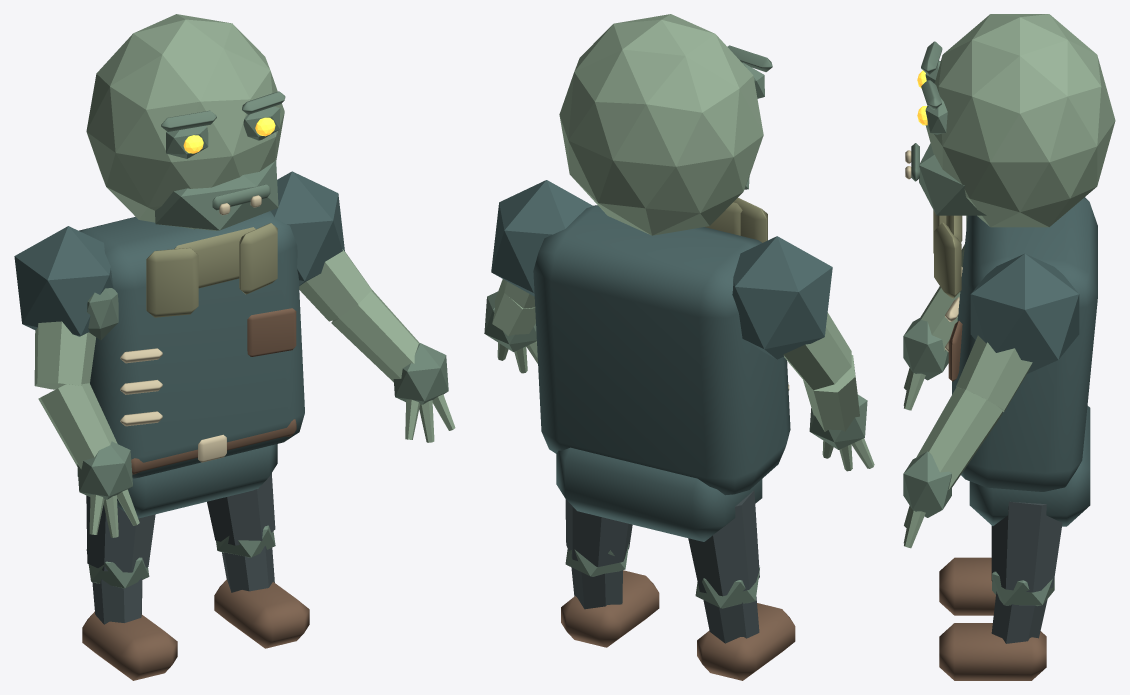
Rendered from zombie_enemy.glb.
3 views of the same model, side by side, from view 1: azimuth 30°, elevation 25°; view 2: azimuth 150°, elevation 25°; view 3: azimuth 270°, elevation 25° (orthographic). The views are drawn at different scales.
Visible parts, largest first — view 1: Torso | jacket shell, Head | angular skull, Shoulder L | torn sleeve, Pelvis | jacket hem, Shoulder R | torn sleeve, Boot L, Boot R, Jaw | slack, Arm R | forearm, Arm L | forearm, Arm L | upper, Collar | left flap (+19 smaller); view 2: Torso | jacket shell, Head | angular skull, Pelvis | jacket hem, Shoulder L | torn sleeve, Shoulder R | torn sleeve, Leg L | upper, Boot L, Boot R, Leg R | upper, Arm L | upper, Arm L | forearm, Leg L | lower (+8 smaller); view 3: Head | angular skull, Torso | jacket shell, Shoulder R | torn sleeve, Leg R | upper, Boot R, Arm R | forearm, Pelvis | jacket hem, Arm R | upper, Boot L, Hand R | claw palm, Jaw | slack, Hand L | claw palm (+10 smaller).
Part boxes in pixels (x1,y1,x2,y2): Torso | jacket shell: (79, 211, 304, 478); Head | angular skull: (86, 14, 284, 229); Shoulder L | torn sleeve: (14, 226, 113, 336); Pelvis | jacket hem: (77, 444, 277, 518); Shoulder R | torn sleeve: (270, 171, 344, 285); Boot L: (82, 611, 177, 680); Boot R: (214, 579, 309, 648); Jaw | slack: (155, 160, 278, 230); Arm R | forearm: (331, 289, 419, 382); Arm L | forearm: (38, 383, 117, 469); Arm L | upper: (34, 321, 95, 389); Collar | left flap: (146, 248, 198, 317); Torso | jacket shell: (533, 205, 790, 495); Head | angular skull: (559, 14, 763, 235); Pelvis | jacket hem: (556, 447, 762, 541); Shoulder L | torn sleeve: (732, 236, 832, 359); Shoulder R | torn sleeve: (491, 180, 592, 296); Leg L | upper: (688, 490, 759, 596); Boot L: (697, 603, 795, 680); Boot R: (561, 570, 659, 647); Leg R | upper: (565, 499, 632, 566); Arm L | upper: (783, 312, 851, 390); Arm L | forearm: (803, 355, 859, 431); Leg L | lower: (703, 597, 759, 643); Head | angular skull: (925, 14, 1115, 227); Torso | jacket shell: (952, 197, 1097, 491); Shoulder R | torn sleeve: (970, 253, 1079, 373); Leg R | upper: (991, 501, 1062, 592); Boot R: (939, 623, 1046, 680); Arm R | forearm: (916, 387, 1002, 489); Pelvis | jacket hem: (969, 406, 1090, 526); Arm R | upper: (956, 335, 1032, 411); Boot L: (939, 557, 995, 615); Hand R | claw palm: (903, 451, 951, 517); Jaw | slack: (919, 143, 986, 215); Hand L | claw palm: (903, 317, 948, 380).
Bounding box in the file's own units: 1.33 × 2.06 × 0.6323.
